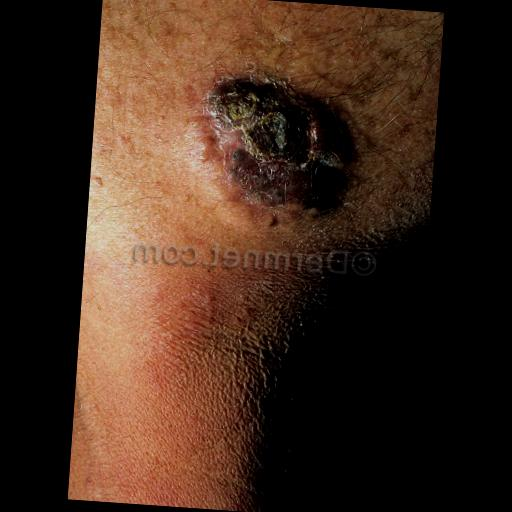Skin_Lesion: (188, 73, 400, 234)
